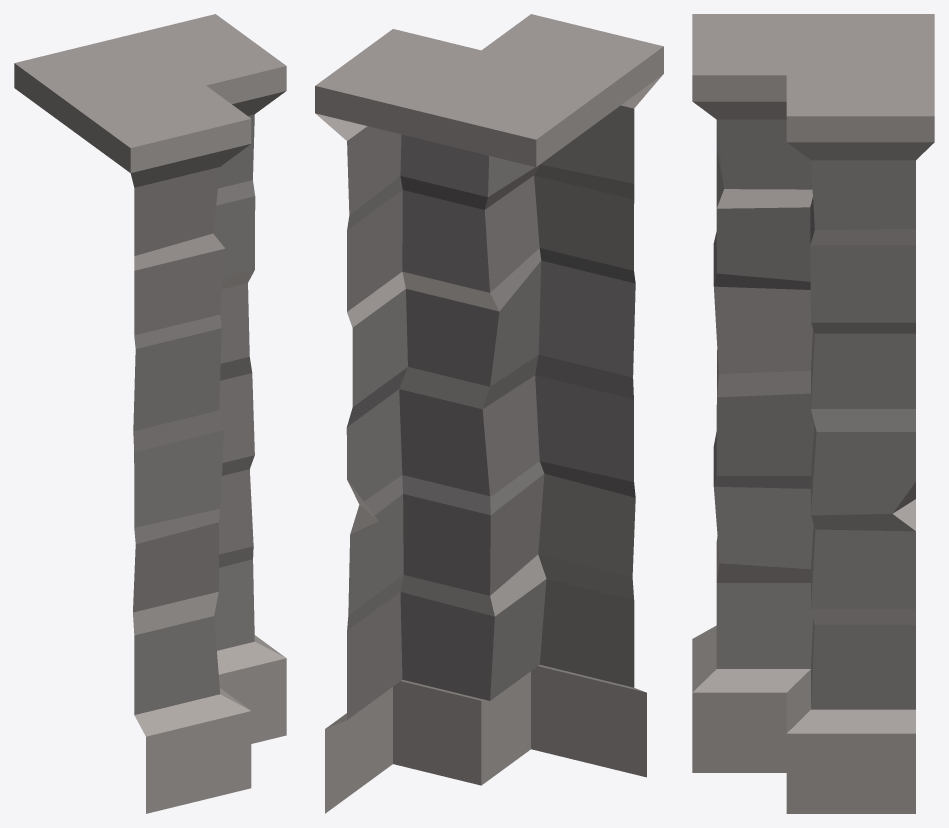
The model's file is dungeon-pillar-stone-edge.glb.
3 renders of one model, left to right at view 1: azimuth 30°, elevation 25°; view 2: azimuth 150°, elevation 25°; view 3: azimuth 270°, elevation 25°, orthographic. The views are drawn at different scales.
Visible parts, largest first — view 1: dungeon-pillar-stone-edge; view 2: dungeon-pillar-stone-edge; view 3: dungeon-pillar-stone-edge.
Part boxes in pixels (left/top/right/bottom): dungeon-pillar-stone-edge: left=14, top=14, right=286, bottom=813; dungeon-pillar-stone-edge: left=315, top=14, right=663, bottom=813; dungeon-pillar-stone-edge: left=692, top=14, right=934, bottom=813.
Size of the model in its own units: 0.9806 by 3.12 by 0.9806.
Materials: 1 (1 with a texture image).
